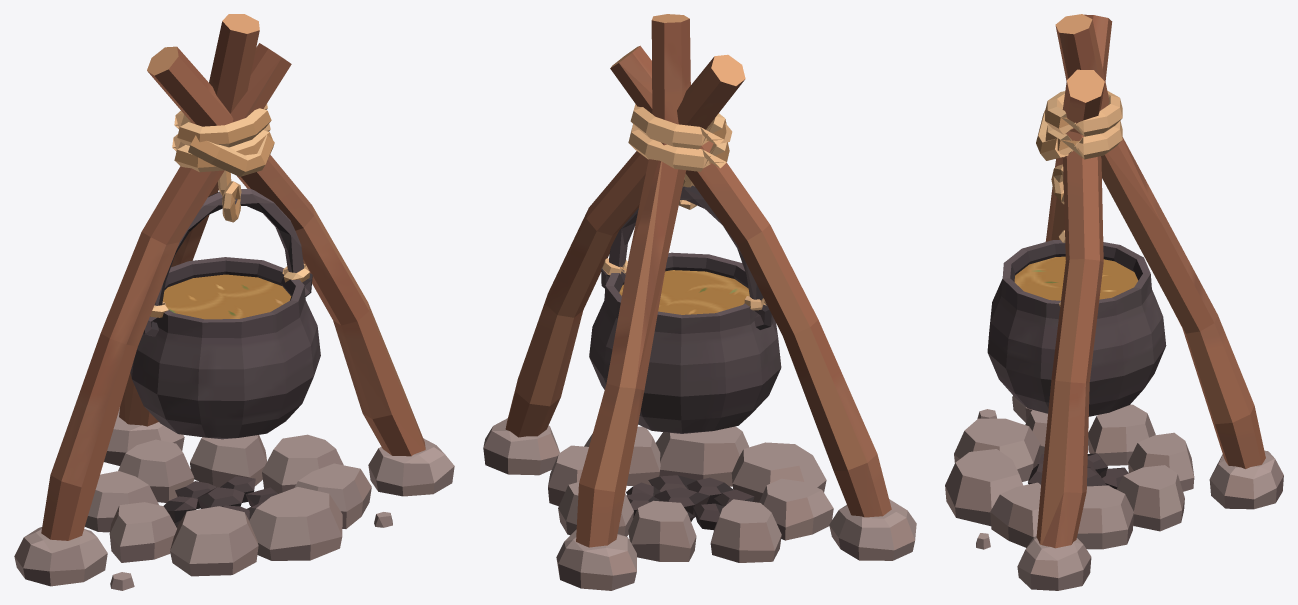
The model's file is Tripod_Cauldron_and_Hearth.glb.
3 views of the same model, side by side, from view 1: azimuth 30°, elevation 25°; view 2: azimuth 150°, elevation 25°; view 3: azimuth 270°, elevation 25° (orthographic). The views are drawn at different scales.
Visible parts, largest first — view 1: Tripod Cauldron and Stone Hearth; view 2: Tripod Cauldron and Stone Hearth; view 3: Tripod Cauldron and Stone Hearth.
Boxes of the visible parts, bbox=[...] form: Tripod Cauldron and Stone Hearth: bbox=[14, 14, 454, 590]; Tripod Cauldron and Stone Hearth: bbox=[483, 14, 916, 590]; Tripod Cauldron and Stone Hearth: bbox=[945, 14, 1283, 590].
Bounding box in the file's own units: 3.54 × 3.92 × 2.51.
Materials: 2 (2 with a texture image).
